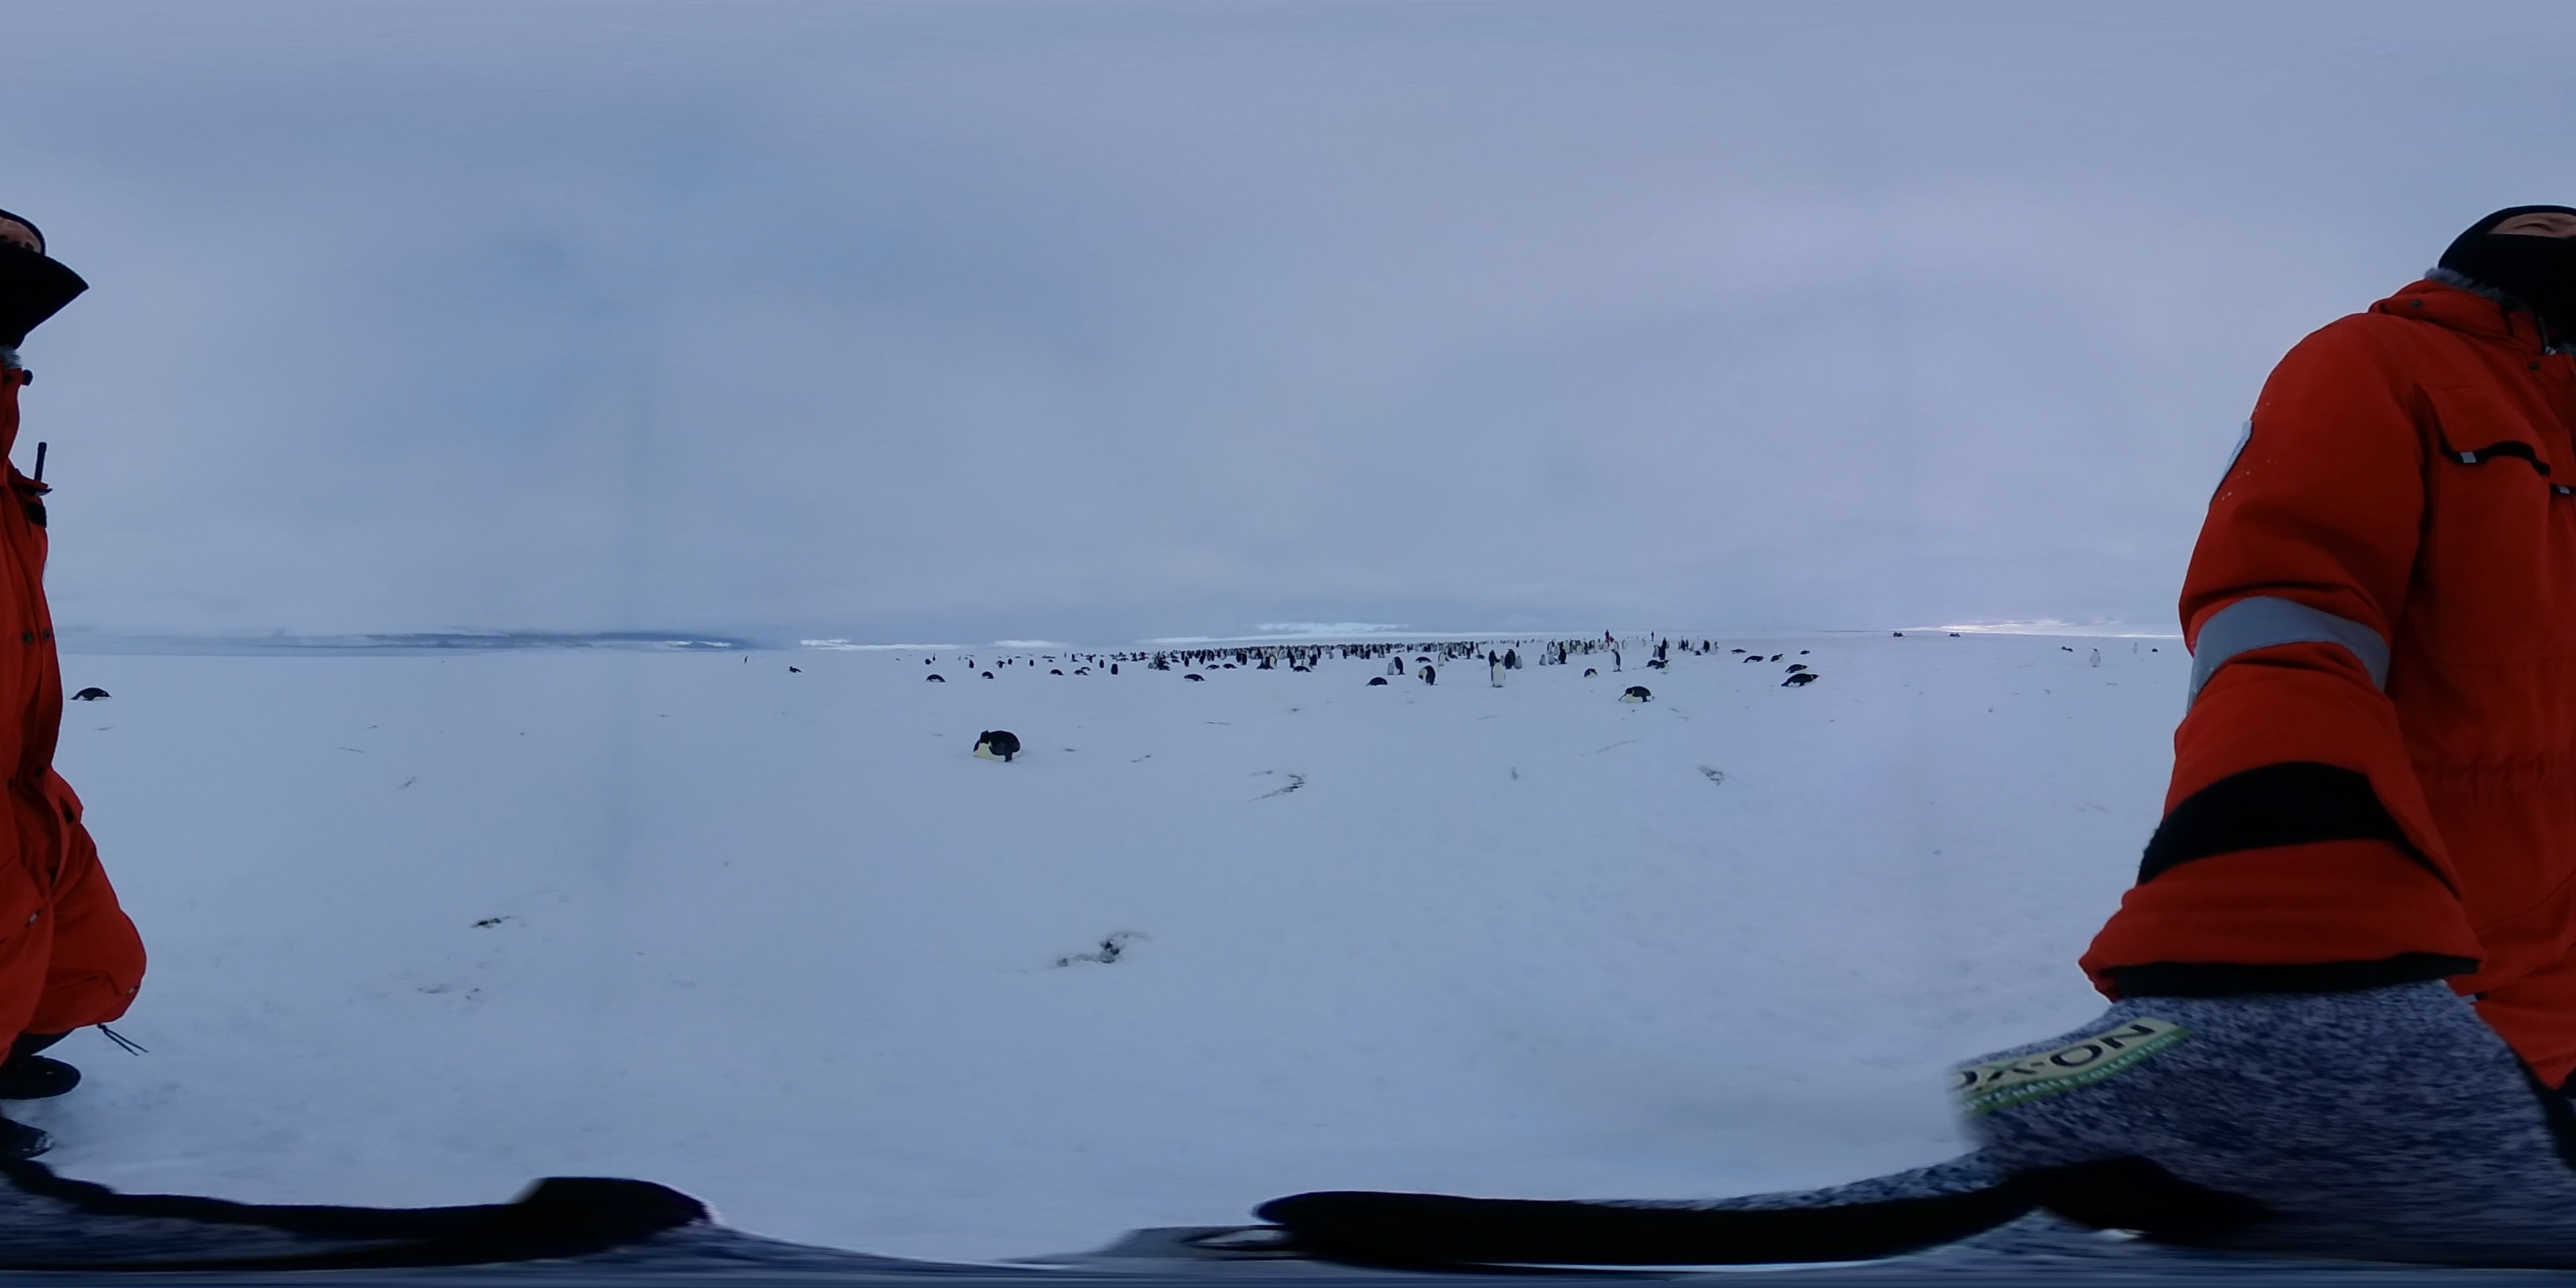adult_standing_penguin: (1487, 657, 1506, 688), (1416, 665, 1434, 688), (1393, 652, 1410, 677), (1610, 647, 1621, 674), (2086, 647, 2100, 667), (1557, 646, 1569, 665)
adult_toboggan_penguin: (964, 728, 1020, 764), (69, 687, 113, 703), (1618, 685, 1654, 705), (1779, 674, 1815, 690), (922, 674, 948, 685), (1181, 672, 1207, 683), (1367, 677, 1388, 690), (1781, 664, 1807, 674), (977, 669, 999, 680), (1413, 655, 1434, 665), (1654, 659, 1672, 670), (1580, 669, 1600, 678), (1741, 655, 1764, 664), (1048, 669, 1063, 677)
juvenile_penguin: (1536, 652, 1551, 672), (1387, 659, 1396, 680), (1513, 655, 1525, 670)
researcher: (0, 181, 118, 1184)
